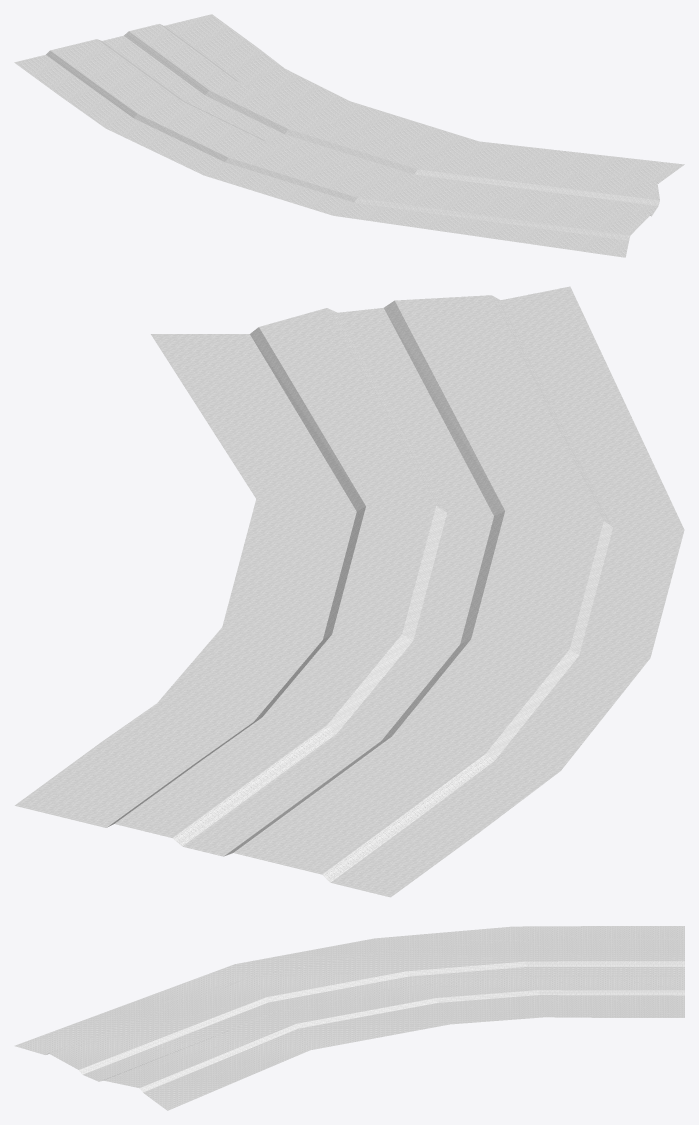
Rendered from RailGround_B_002.fbx.
3 renders of one model, top to bottom at view 1: azimuth 30°, elevation 25°; view 2: azimuth 150°, elevation 25°; view 3: azimuth 270°, elevation 25°, orthographic. The views are drawn at different scales.
Parts seen in each view (by area): view 1: RailGround_B_002; view 2: RailGround_B_002; view 3: RailGround_B_002.
Part boxes in pixels (box(x1,y1,x2,y2)): RailGround_B_002: box(14, 14, 684, 257); RailGround_B_002: box(15, 286, 684, 897); RailGround_B_002: box(14, 926, 684, 1110).
Size of the model in its own units: 9097 by 69.84 by 13956.
Materials: 1 (1 with a texture image).
